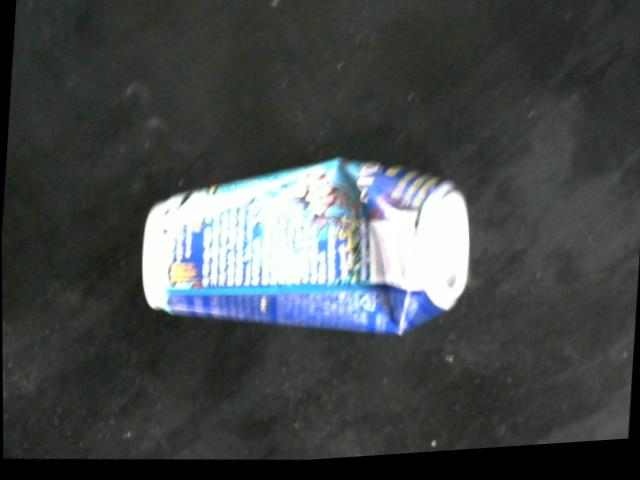can: (142, 161, 469, 341)
